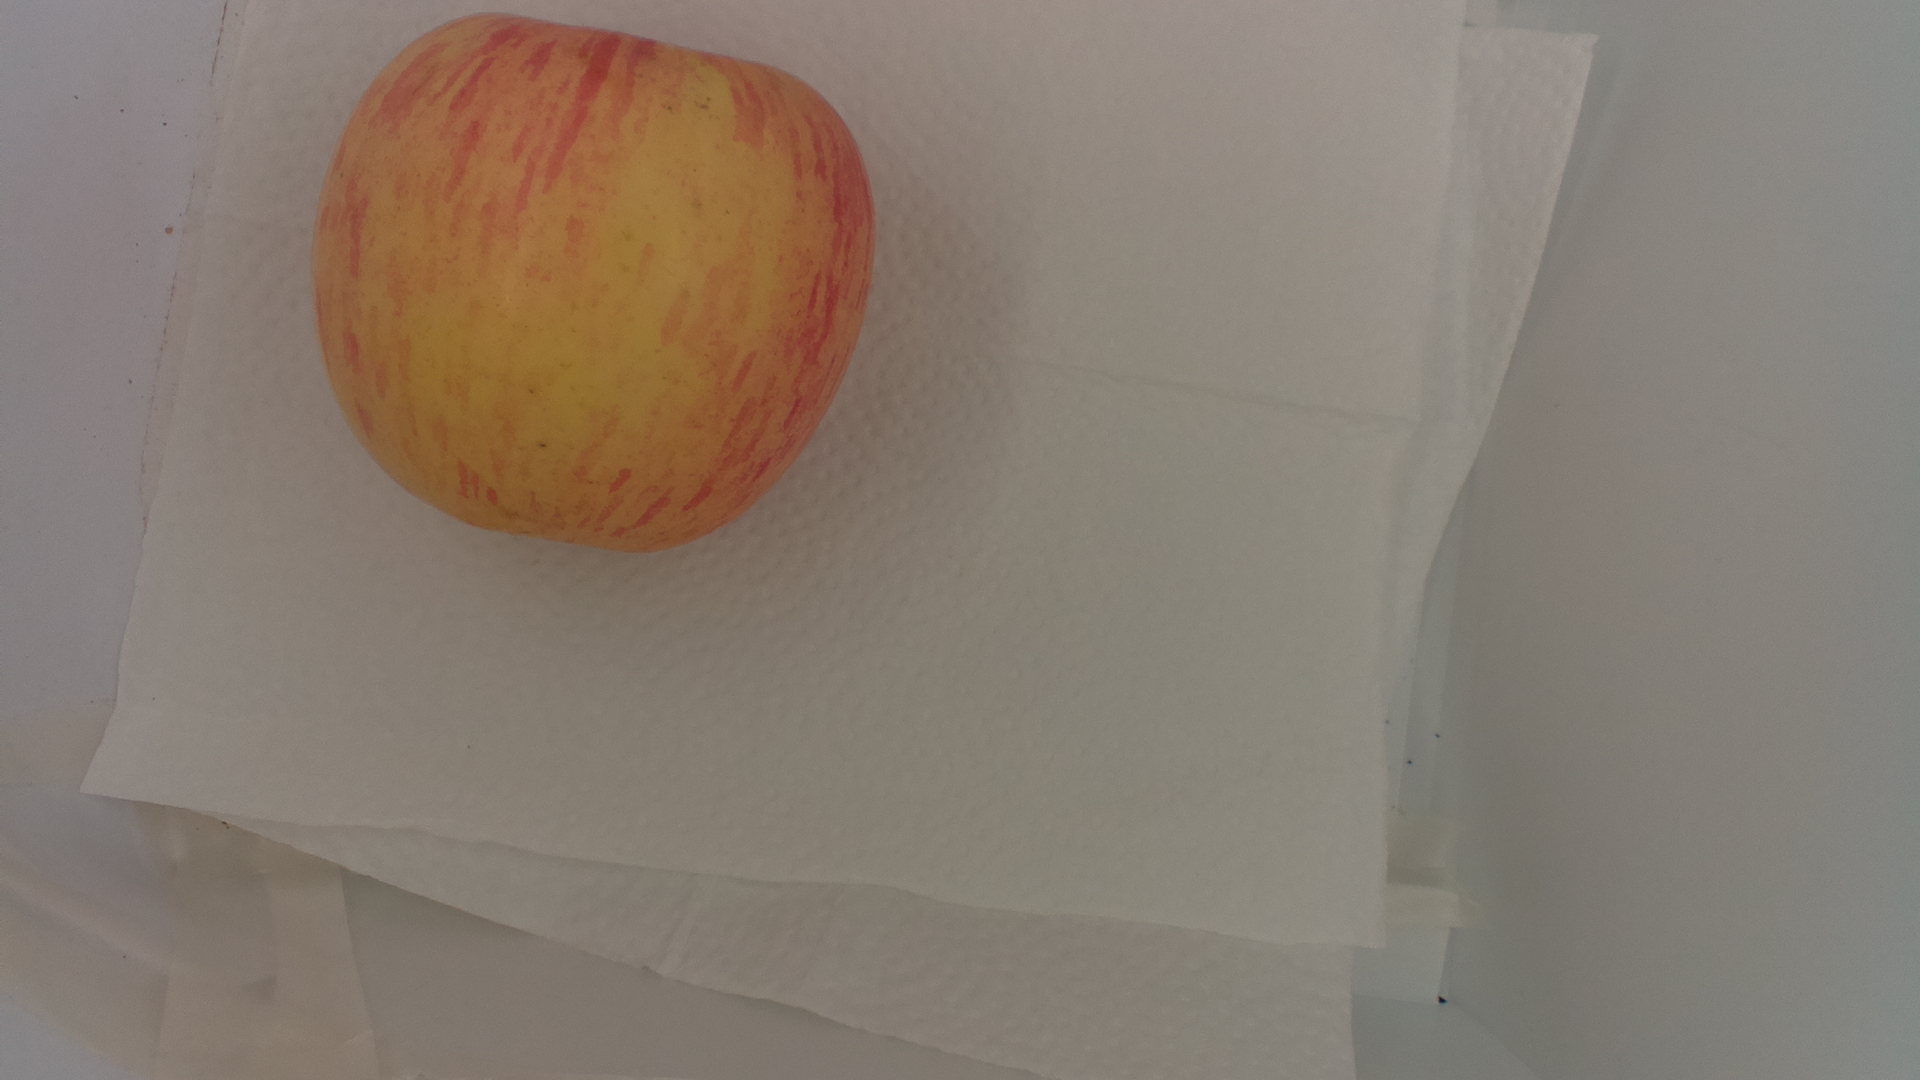fruit: (315, 7, 876, 560)
